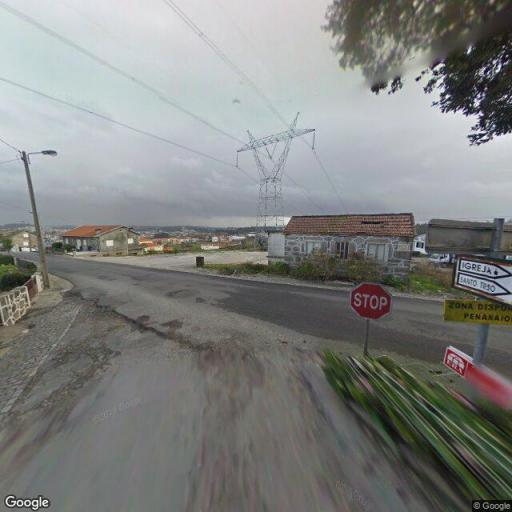wt_6: (234, 108, 318, 250)
